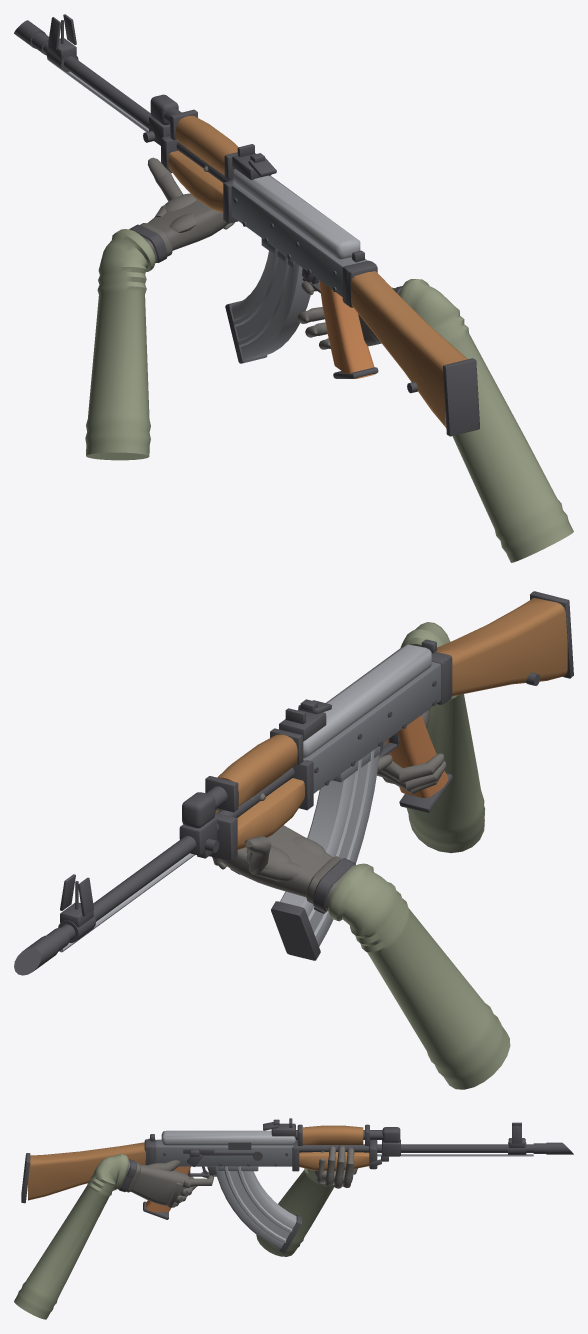
Rendered from akm.glb.
3 views of the same model, one above another, from view 1: azimuth 30°, elevation 25°; view 2: azimuth 150°, elevation 25°; view 3: azimuth 270°, elevation 25° (orthographic). The views are drawn at different scales.
Visible parts, largest first — view 1: AK47, ArmR, ArmL, Mag, HandL, HandR; view 2: AK47, ArmL, ArmR, Mag, HandL, HandR; view 3: AK47, ArmR, Mag, HandR, ArmL, HandL.
Boxes of the visible parts, x1=… form: AK47: x1=14, y1=14, x2=479, y2=436; ArmR: x1=399, y1=279, x2=573, y2=562; ArmL: x1=85, y1=229, x2=155, y2=460; Mag: x1=225, y1=248, x2=310, y2=363; HandL: x1=129, y1=157, x2=234, y2=262; HandR: x1=297, y1=281, x2=402, y2=349; AK47: x1=14, y1=591, x2=573, y2=975; ArmL: x1=328, y1=863, x2=510, y2=1089; ArmR: x1=400, y1=622, x2=485, y2=852; Mag: x1=271, y1=746, x2=380, y2=960; HandL: x1=212, y1=793, x2=355, y2=913; HandR: x1=377, y1=709, x2=446, y2=794; AK47: x1=21, y1=1118, x2=573, y2=1219; ArmR: x1=14, y1=1153, x2=128, y2=1319; Mag: x1=215, y1=1166, x2=301, y2=1253; HandR: x1=117, y1=1159, x2=213, y2=1207; ArmL: x1=256, y1=1168, x2=334, y2=1256; HandL: x1=314, y1=1145, x2=357, y2=1188.
Size of the model in its own units: 0.396 by 0.3839 by 1.12.
Materials: 1 (1 with a texture image).
